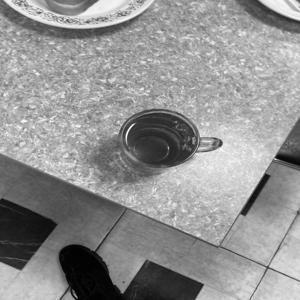tea: (80, 86, 231, 185)
